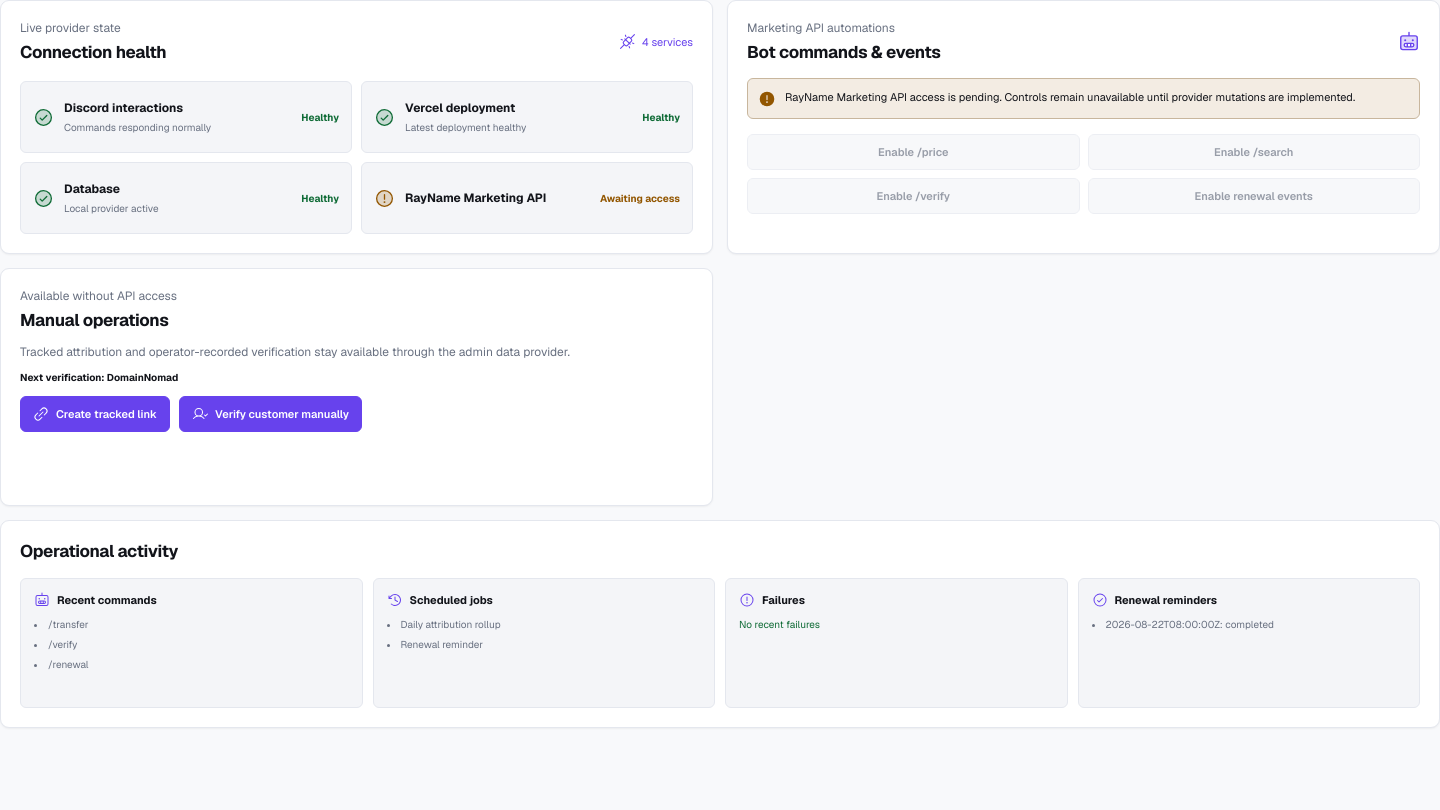
Test: keeps provider-backed manual operations available while RayName API access is pending
Expected: the text "Healthy" is shown 3 times, top-left (301, 110), bottom-right (339, 124); top-left (642, 110), bottom-right (680, 124); top-left (301, 192), bottom-right (339, 204)
Expected: the text "Awaiting access" is shown, top-left (600, 192), bottom-right (680, 204)
What coordinates should you click on to do the following:
click the button "Create tracked link"
I would click on:
 (95, 414)
Its box is top-left (20, 396), bottom-right (170, 432).
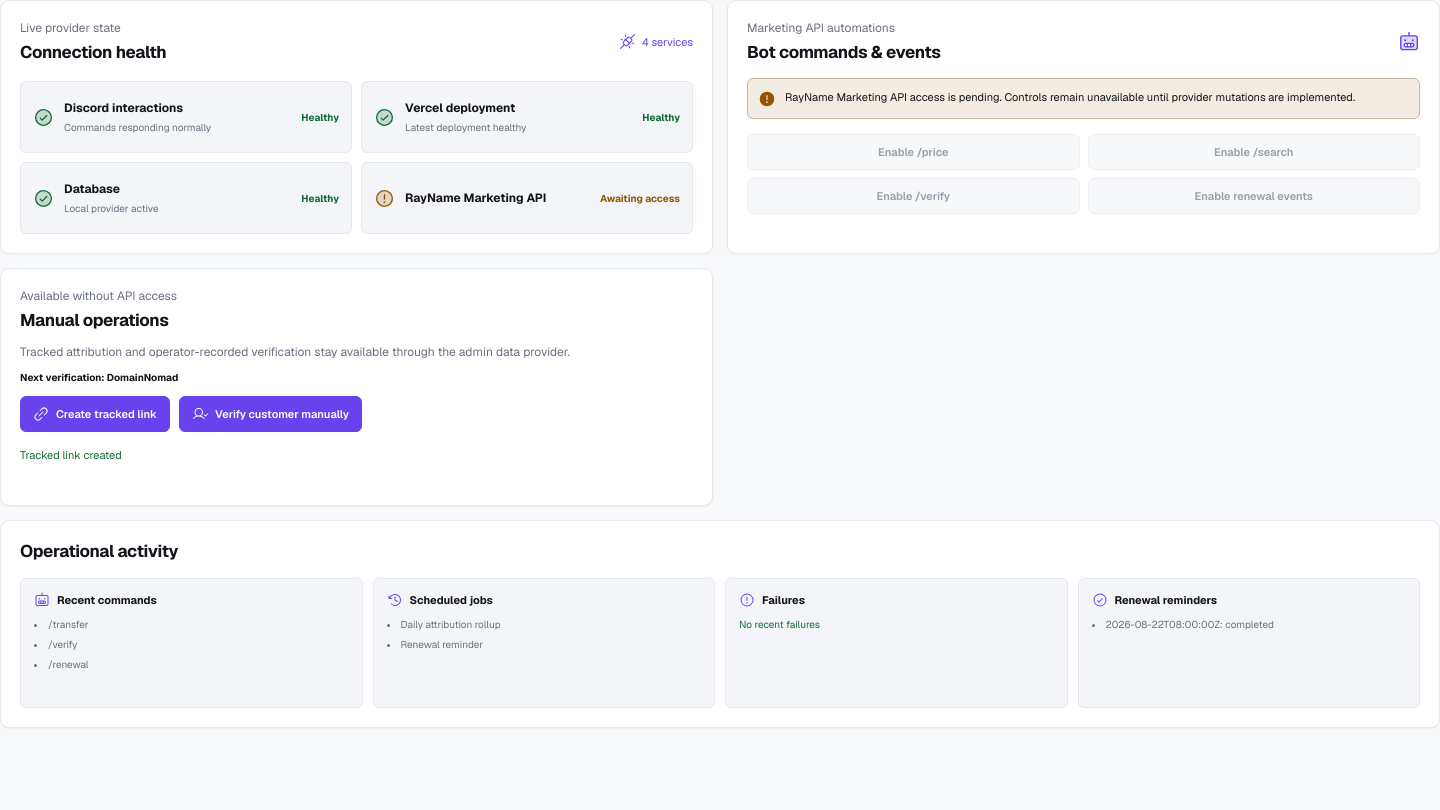
Now the message reads "Tracked link created", box top-left (20, 448), bottom-right (122, 462)
What coordinates should you click on to do the following:
click the button "Verify customer manually"
I would click on:
 (270, 414)
Its box is top-left (179, 396), bottom-right (362, 432).
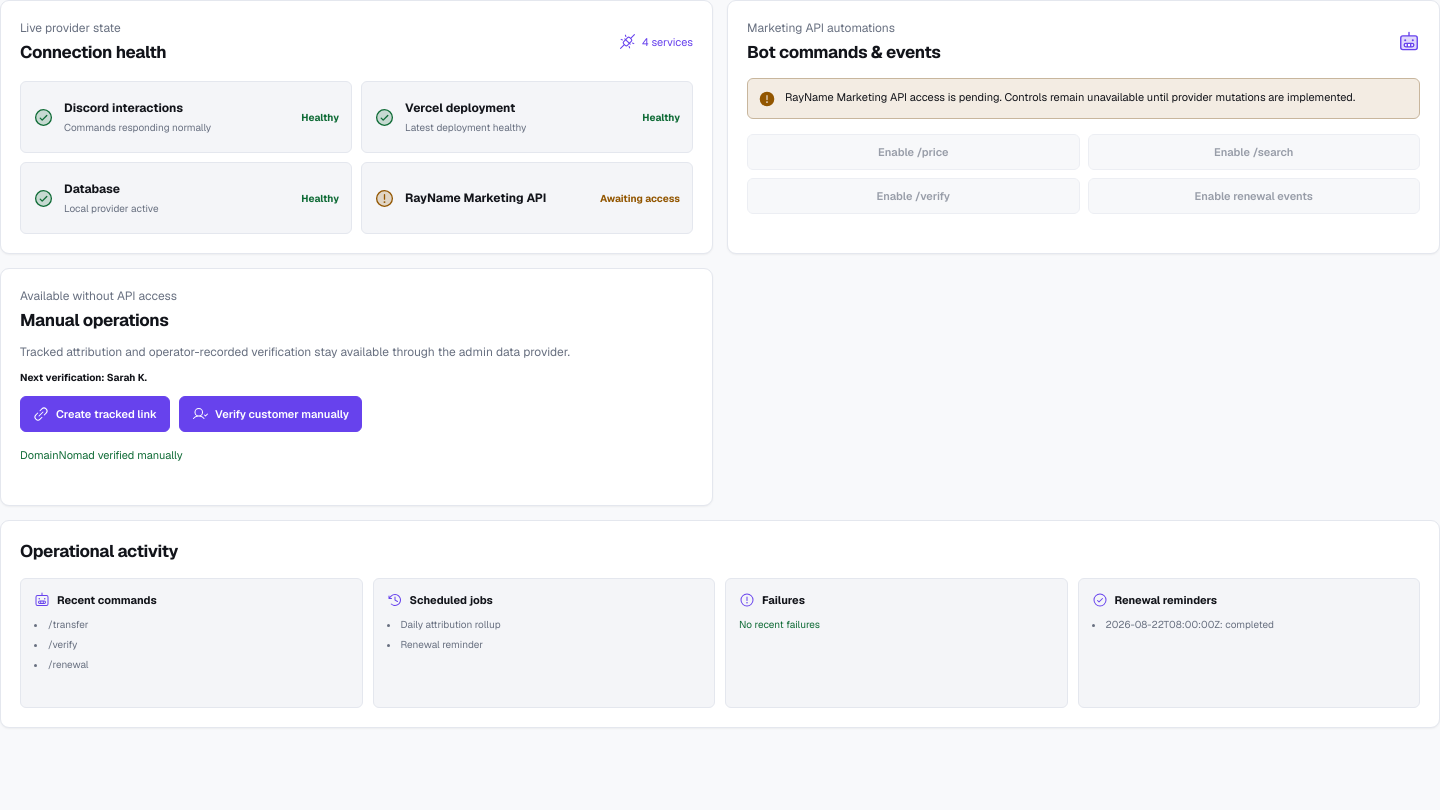
Now the message reads "DomainNomad verified manually", box top-left (20, 448), bottom-right (183, 462)
